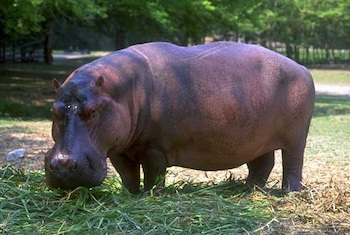Hippopotamus: (43, 39, 318, 193)
